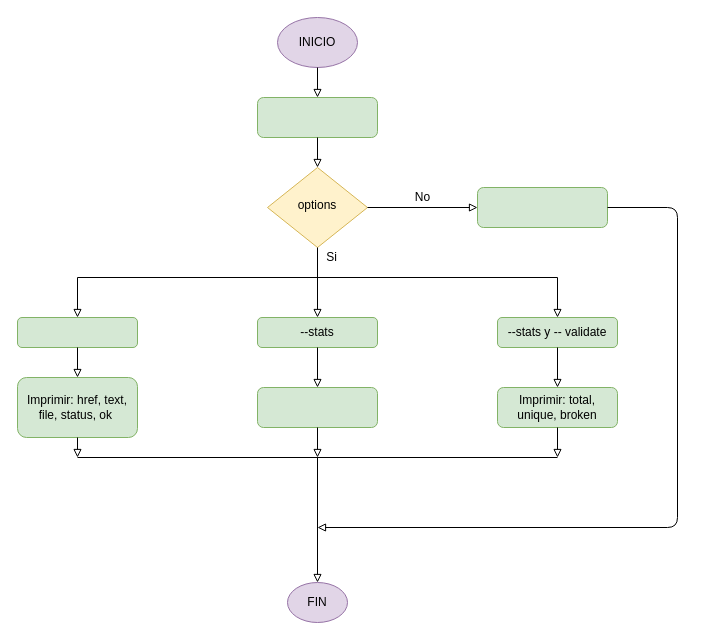
Image size: 703x640. Some labels were removed from this diagram. Each missing label, with the centre of its shape:
--validate: (77,332)
Ejecutar md-links <path-to-file>: (317,117)
Imprimir : Total, unique: (317,407)
Imprimir: href, text, file: (542,207)
